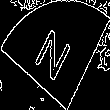N_SW: (32, 23, 78, 87)
